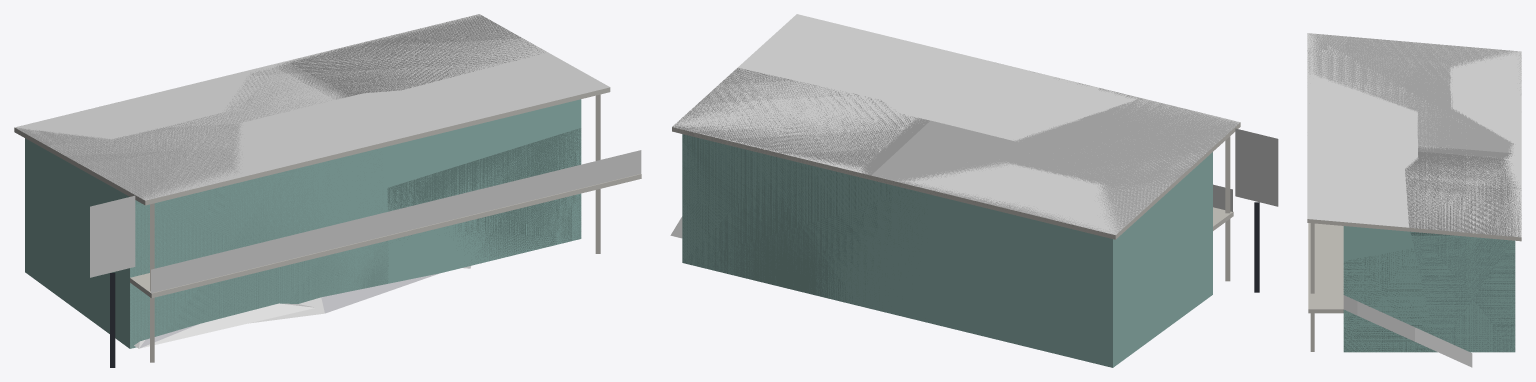
Rendered from bld_motel_a.glb.
The picture shows the model from 3 angles, left to right: view 1: azimuth 30°, elevation 25°; view 2: azimuth 150°, elevation 25°; view 3: azimuth 270°, elevation 25°; orthographic projection. The views are drawn at different scales.
Parts seen in each view (by area): view 1: damaged, intact, chunk_01, chunk_00, chunk_02, chunk_03, chunk_04, chunk_05, rubble; view 2: damaged, chunk_04, chunk_05, intact, chunk_06, chunk_07, chunk_02, chunk_01, chunk_00, chunk_03; view 3: damaged, intact, chunk_03, chunk_07, chunk_02, chunk_01, chunk_05, chunk_04, chunk_06, chunk_00.
Part boxes in pixels (x1,y1,x2,y2): damaged: (14,14,581,367); intact: (17,14,641,346); chunk_01: (224,106,377,316); chunk_00: (75,162,246,348); chunk_02: (310,87,493,290); chunk_03: (443,73,610,252); chunk_04: (14,103,160,313); chunk_05: (116,71,251,127); rubble: (134,266,470,348); damaged: (670,62,1278,367); chunk_04: (1019,174,1173,367); chunk_05: (894,161,1059,345); intact: (672,14,1238,234); chunk_06: (783,153,897,315); chunk_07: (672,127,786,284); chunk_02: (859,41,1018,126); chunk_01: (955,68,1137,141); chunk_00: (1167,107,1240,327); chunk_03: (787,14,907,84); damaged: (1307,33,1521,367); intact: (1307,33,1521,352); chunk_03: (1307,172,1421,352); chunk_07: (1421,190,1521,352); chunk_02: (1307,126,1418,179); chunk_01: (1307,73,1417,135); chunk_05: (1450,86,1521,144); chunk_04: (1449,51,1521,91); chunk_06: (1501,143,1521,190); chunk_00: (1307,33,1322,73).
Bounding box in the file's own units: 24 × 7.08 × 10.
